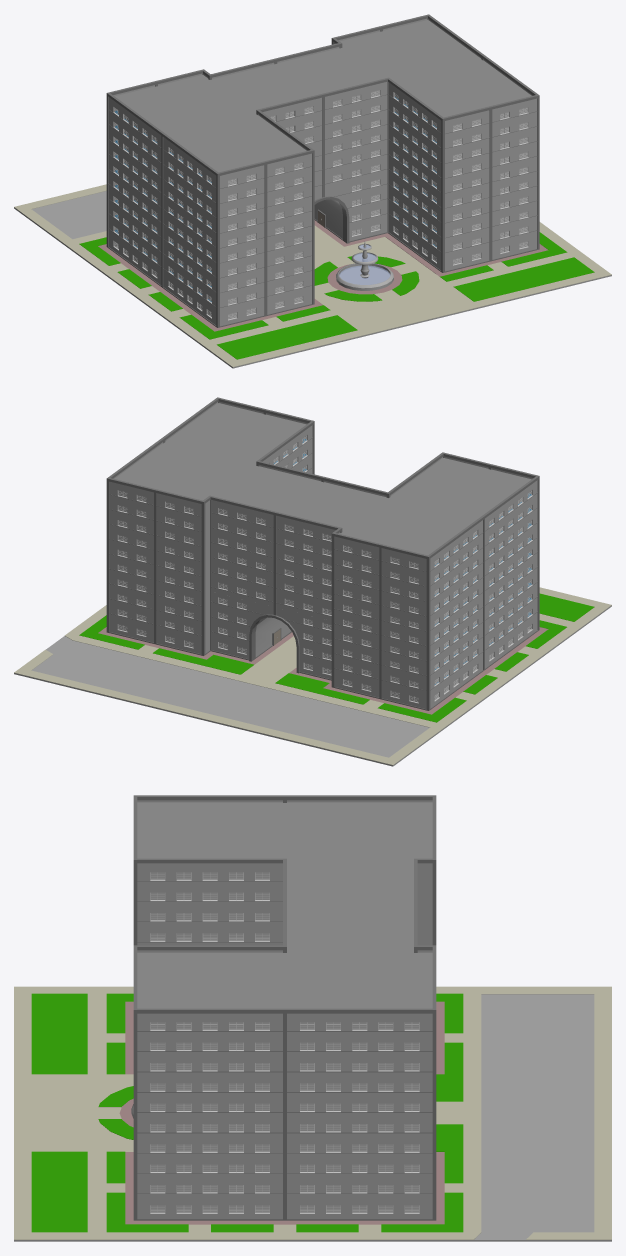
File: Town_Hall.fbx
The picture shows the model from 3 angles, top to bottom: view 1: azimuth 30°, elevation 25°; view 2: azimuth 150°, elevation 25°; view 3: azimuth 270°, elevation 25°; orthographic projection. The views are drawn at different scales.
Parts seen in each view (by area): view 1: OuterWalls2, Rooftop1, Path, Highlights1, Windows, InnerWalls1, Floor, RedPath, pCube26, pCube32, Fountain, Grasses (+2 smaller); view 2: OuterWalls2, Rooftop1, Floor, Highlights1, Windows, Path, InnerWalls1, RedPath, pCube26, pCube66, pCube67; view 3: OuterWalls2, Rooftop1, Path, Floor, Windows, Highlights1, InnerWalls1, pCube26, pCube32, RedPath, Grasses, pCube66 (+11 smaller).
Boxes of the visible parts, x1,y1,x2,y2 form: OuterWalls2: (108,18,536,325); Rooftop1: (115,20,531,172); Path: (14,184,611,367); Highlights1: (106,14,539,327); Windows: (113,90,528,320); InnerWalls1: (118,90,527,319); Floor: (14,191,611,368); RedPath: (98,220,548,331); pCube26: (217,315,357,359); pCube32: (453,257,594,301); Fountain: (336,241,393,290); Grasses: (314,256,419,301); OuterWalls2: (109,401,537,709); Rooftop1: (114,403,531,555); Floor: (14,605,611,766); Highlights1: (106,397,539,710); Windows: (117,435,532,703); Path: (14,587,611,765); InnerWalls1: (118,438,528,702); RedPath: (98,627,548,714); pCube26: (539,593,594,621); pCube66: (200,654,253,674); pCube67: (275,673,329,692); OuterWalls2: (137,800,432,1218); Rooftop1: (137,802,432,1008); Path: (14,986,611,1239); Floor: (14,994,611,1241); Windows: (150,872,419,1213); Highlights1: (133,795,436,1220); InnerWalls1: (151,872,418,1212); pCube26: (31,993,87,1074); pCube32: (31,1151,87,1232); RedPath: (119,1001,444,1224); Grasses: (98,1086,133,1139); pCube66: (436,1124,463,1151).
Bounding box in the file's own units: 320 × 126 × 320.
